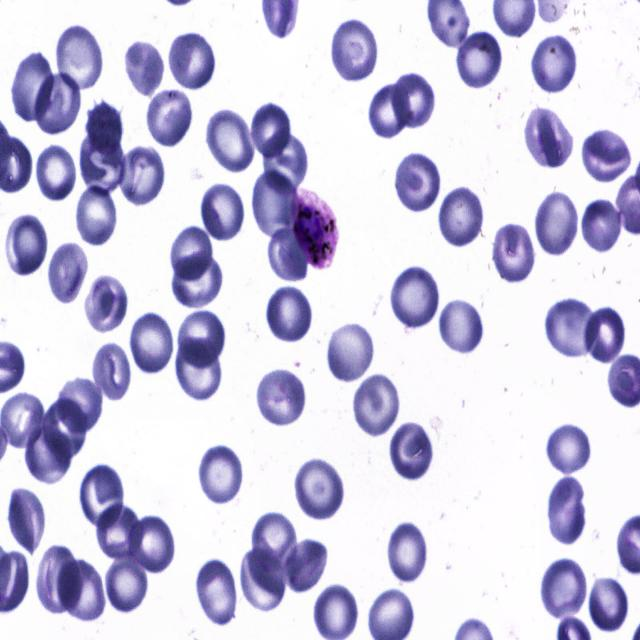red blood cell: (388, 261, 442, 331), (203, 107, 257, 176), (546, 294, 600, 361), (529, 31, 581, 97), (294, 455, 346, 520), (10, 47, 55, 122), (56, 24, 104, 93), (330, 17, 380, 82), (166, 29, 218, 91), (533, 188, 579, 258), (438, 184, 487, 249), (255, 368, 308, 428), (253, 170, 298, 240), (128, 309, 175, 376), (169, 251, 225, 307), (455, 27, 504, 91), (34, 544, 78, 615), (354, 373, 402, 438), (327, 319, 375, 384), (198, 440, 246, 503), (525, 105, 573, 168), (262, 129, 310, 192), (79, 131, 127, 194), (539, 556, 586, 620), (239, 547, 286, 611), (34, 71, 81, 135), (56, 560, 106, 620), (252, 510, 298, 575), (198, 182, 246, 244), (196, 557, 239, 626), (546, 476, 587, 548), (95, 501, 144, 560), (5, 213, 48, 280), (579, 129, 631, 184), (176, 312, 226, 369), (6, 485, 48, 552), (80, 463, 123, 528), (389, 420, 434, 482), (394, 153, 441, 212), (146, 89, 193, 148), (42, 397, 86, 460), (127, 516, 175, 573), (123, 38, 167, 100), (106, 551, 150, 613), (25, 426, 72, 484), (118, 147, 164, 206), (386, 522, 429, 584), (85, 275, 130, 334), (492, 223, 534, 286), (176, 339, 220, 399), (56, 378, 103, 434), (266, 285, 312, 342), (546, 418, 592, 475), (0, 394, 47, 449), (76, 184, 117, 247), (439, 296, 482, 356), (282, 540, 330, 593), (48, 243, 88, 305), (392, 74, 436, 129), (584, 307, 627, 363), (589, 576, 630, 634), (580, 198, 624, 252), (170, 227, 213, 281), (36, 145, 76, 202), (250, 102, 290, 159), (268, 228, 309, 283), (370, 83, 410, 139), (92, 344, 130, 401), (85, 99, 122, 156)
schizont: (290, 189, 340, 269)
